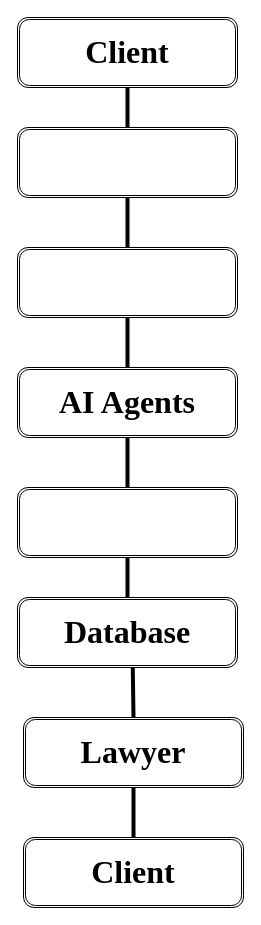
Image size: 261x925. Some labels were removed from this diagram. Each missing label, with the centre of its shape:
FASTAPI: point (127, 282)
Portal: point (127, 162)
Rule Engine: point (127, 522)
